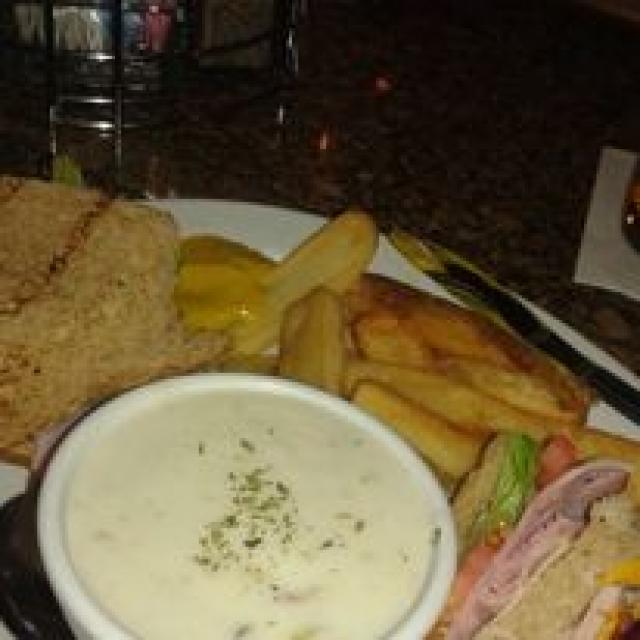French Fries: (183, 199, 637, 466)
Sandwich: (460, 429, 637, 637)
